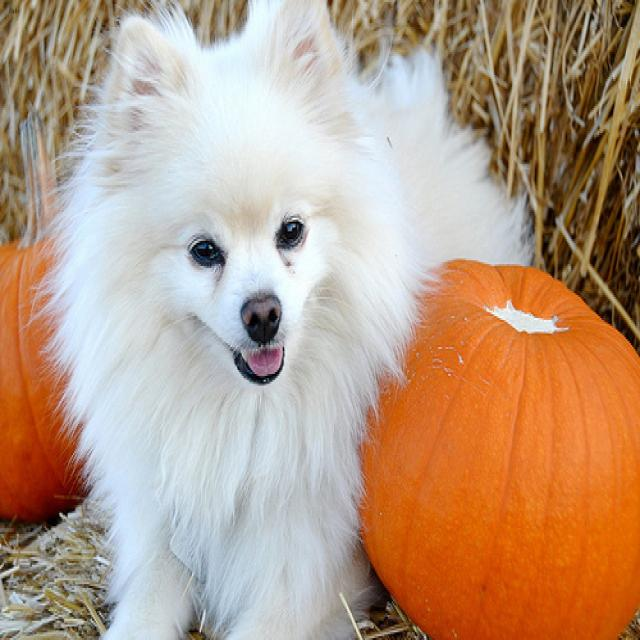dog-pomeranian: (27, 2, 545, 636)
